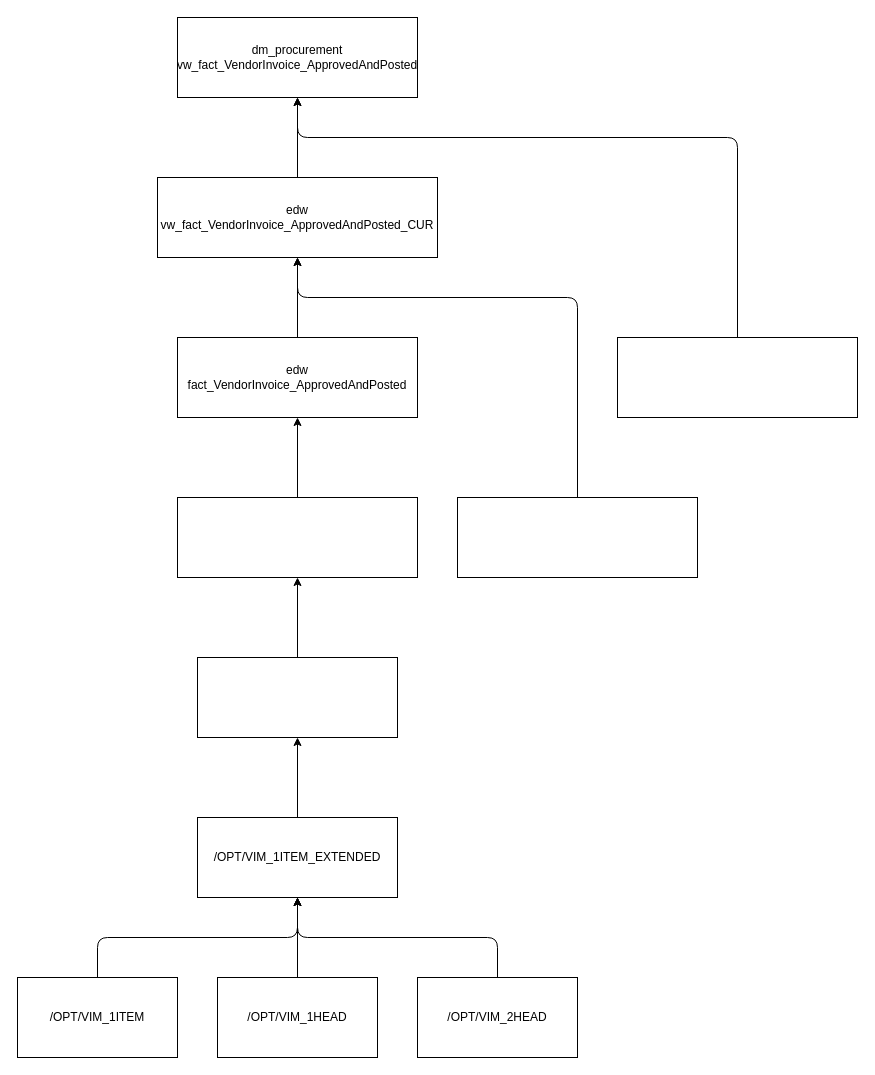
The diagram is 875 pixels wide and 1075 high, and some of its shapes have lost their labels. Each missing label, with the centre of its shape:
"base_s4h_cax Opt_Vim_1Item_Extended" goes at [297,697].
"edw fact_PurchasingDocumentItem" goes at [737,377].
"edw vw_CurrencyConversion" goes at [577,537].
"edw vw_VendorInvoice_ApprovedAndPosted" goes at [297,537].
